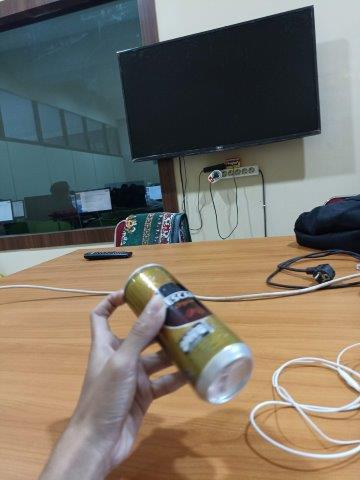kaleng: (123, 263, 254, 405)
